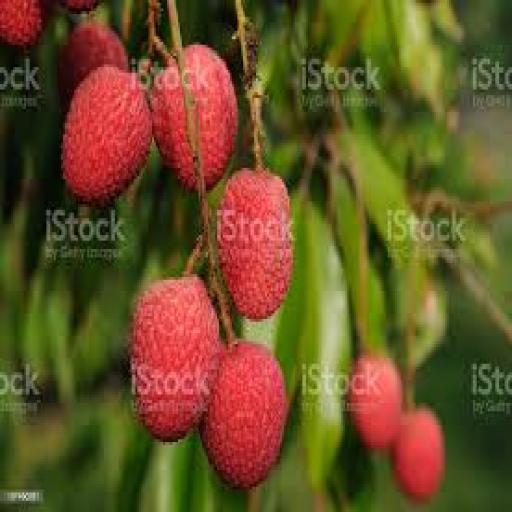lychee: (130, 277, 222, 442), (201, 342, 287, 489), (64, 68, 152, 204), (218, 168, 293, 318), (184, 45, 237, 187), (58, 23, 129, 106), (392, 409, 445, 503), (349, 356, 402, 447), (0, 0, 42, 47), (62, 0, 98, 13)
